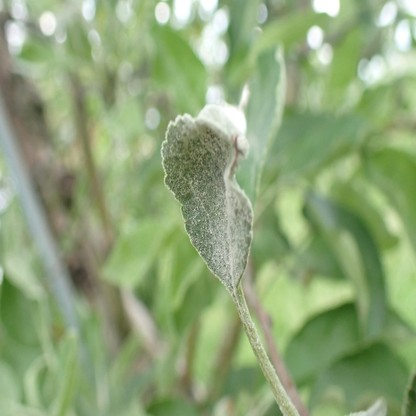powder: (163, 103, 254, 287)
